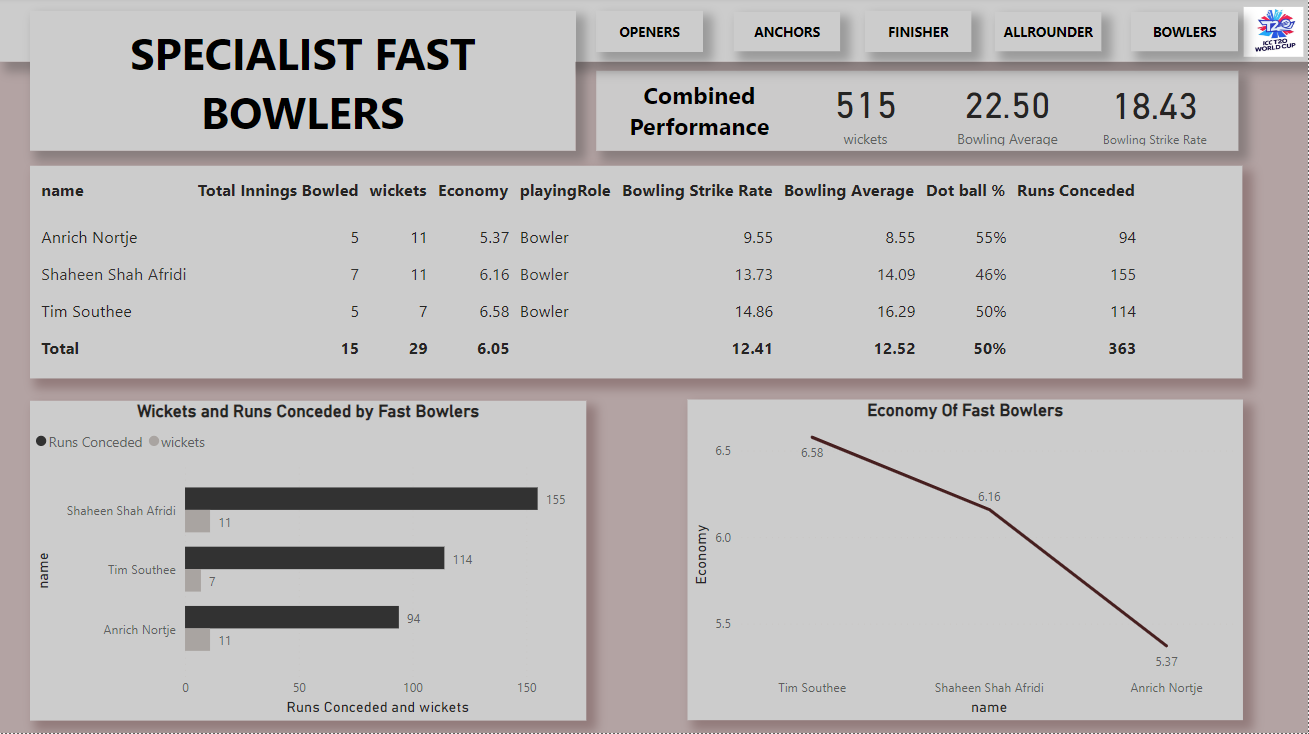

Layout of this report page (visuals, bound fields, positions):
{"tool":"powerbi","page":{"name":"Fast Bowlers","canvas":[1280,720],"ordinal":4},"visuals":[{"type":"shape","box":[583.1,72.1,628.3,78.2],"z":0},{"type":"card","fields":{"Values":["Key Measures.Bowling Strike Rate"]},"box":[1065.9,73.3,127.1,77],"z":1000},{"type":"shape","box":[588,74.6,191.9,72.1],"z":2000},{"type":"card","fields":{"Values":["Key Measures.Bowling Average"]},"box":[925.4,73.3,119.8,77],"z":3000},{"type":"card","fields":{"Values":["Key Measures.wickets"]},"box":[779.9,72.1,133.2,78.2],"z":4000},{"type":"shape","box":[0,0,1279.9,63.6],"z":5000},{"type":"image","box":[1211.4,4.9,68.5,58.7],"z":6000},{"type":"shape","box":[582.7,13.7,104.2,39.8],"z":7000},{"type":"shape","box":[717.1,15.1,104.2,38.4],"z":8000},{"type":"shape","box":[845.9,13.7,104.2,39.8],"z":9000},{"type":"shape","box":[973.4,15.1,104.2,38.4],"z":10000},{"type":"shape","box":[1106.4,15.1,104.2,38.4],"z":11000},{"type":"shape","box":[28.8,13.7,533.3,137.1],"z":12000},{"type":"tableEx","fields":{"Values":["Information.name","Key Measures.Total Innings Bowled","Key Measures.wickets","Key Measures.Economy","Information.playingRole","Key Measures.Bowling Strike Rate","Key Measures.Bowling Average","Key Measures.Dot ball %","Key Measures.Runs Conceded"]},"box":[28.8,164.5,1186,208.4],"z":13000},{"type":"clusteredBarChart","title":"Wickets and Runs Conceded by Fast Bowlers","fields":{"Category":["Information.name"],"Y":["Key Measures.Runs Conceded","Key Measures.wickets"]},"box":[29.3,394.8,544,312.9],"z":14000},{"type":"lineChart","title":"Economy Of Fast Bowlers","fields":{"Category":["Information.name"],"Y":["Key Measures.Economy"]},"box":[671.8,393.5,542.9,314],"z":15000}]}

Visuals, with their boxes in screenshot pixels (x1, y1, x2, y2), scaled from the page's 1280x720 canvas onto the 1309x734 screenshot:
shape: BBox(596, 74, 1239, 153)
card - Key Measures.Bowling Strike Rate: BBox(1090, 75, 1220, 153)
shape: BBox(601, 76, 798, 150)
card - Key Measures.Bowling Average: BBox(946, 75, 1069, 153)
card - Key Measures.wickets: BBox(798, 74, 934, 153)
shape: BBox(0, 0, 1308, 65)
image: BBox(1239, 5, 1308, 65)
shape: BBox(596, 14, 702, 55)
shape: BBox(733, 15, 840, 55)
shape: BBox(865, 14, 972, 55)
shape: BBox(995, 15, 1102, 55)
shape: BBox(1131, 15, 1238, 55)
shape: BBox(29, 14, 575, 154)
tableEx - Information.name x Key Measures.Total Innings Bowled: BBox(29, 168, 1242, 380)
"Wickets and Runs Conceded by Fast Bowlers" clusteredBarChart: BBox(30, 402, 586, 721)
"Economy Of Fast Bowlers" lineChart: BBox(687, 401, 1242, 721)
